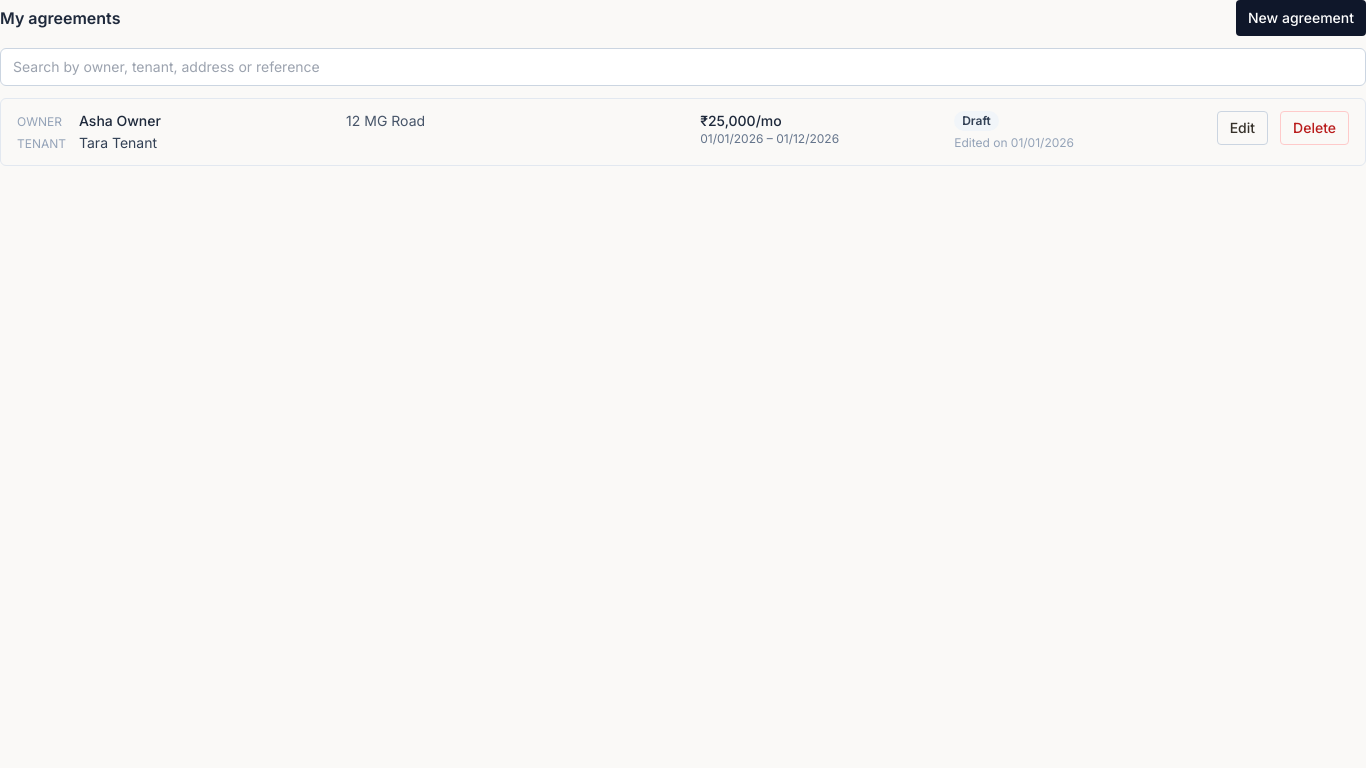
Test: MyAgreements › delete › deleting the last agreement shows the empty state
The width and height of the screenshot is (1366, 768).
What coordinates should you click on to do the following:
click the button with test id "delete-d1"
I would click on:
 (1315, 128)
Its box is [1280, 111, 1349, 145].
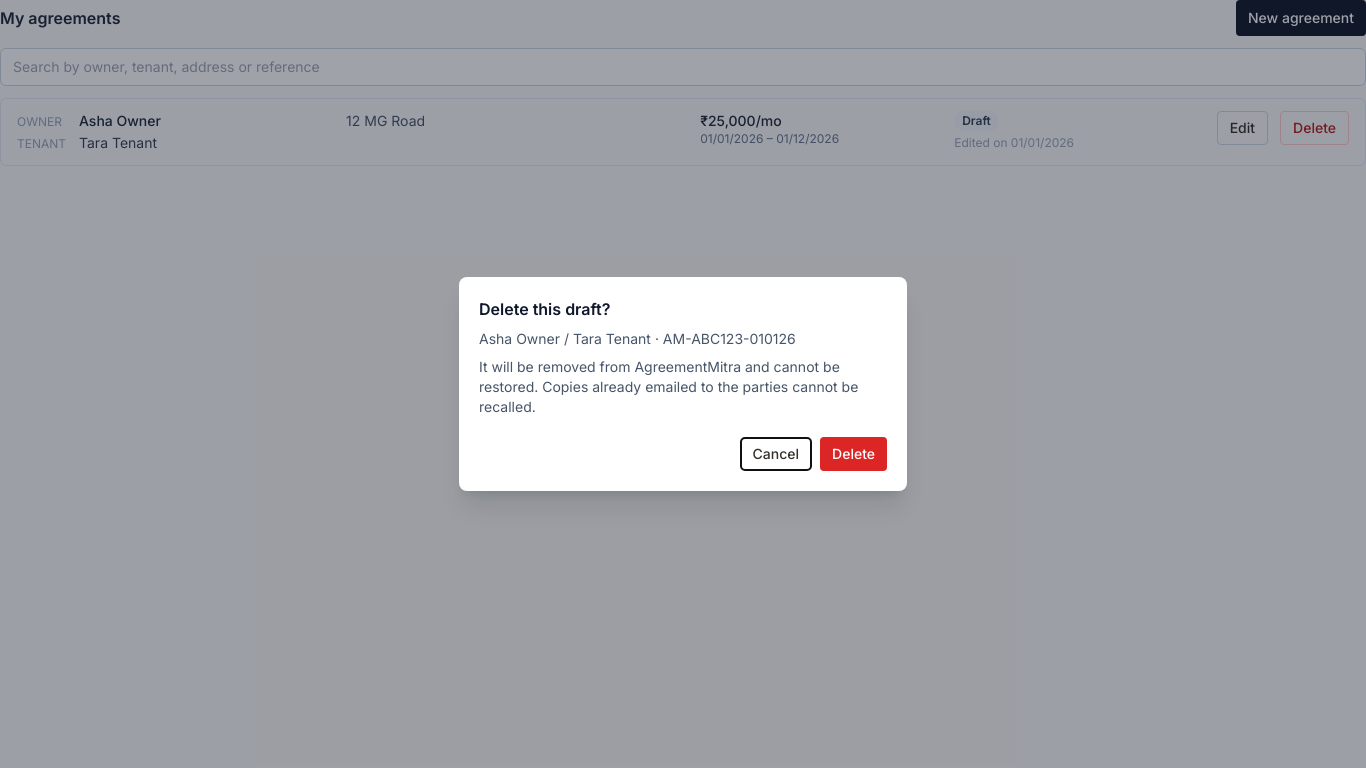
What coordinates should you click on to do the following:
click the button with test id "confirm-ok"
I would click on:
 (854, 454)
Its box is [820, 437, 887, 471].
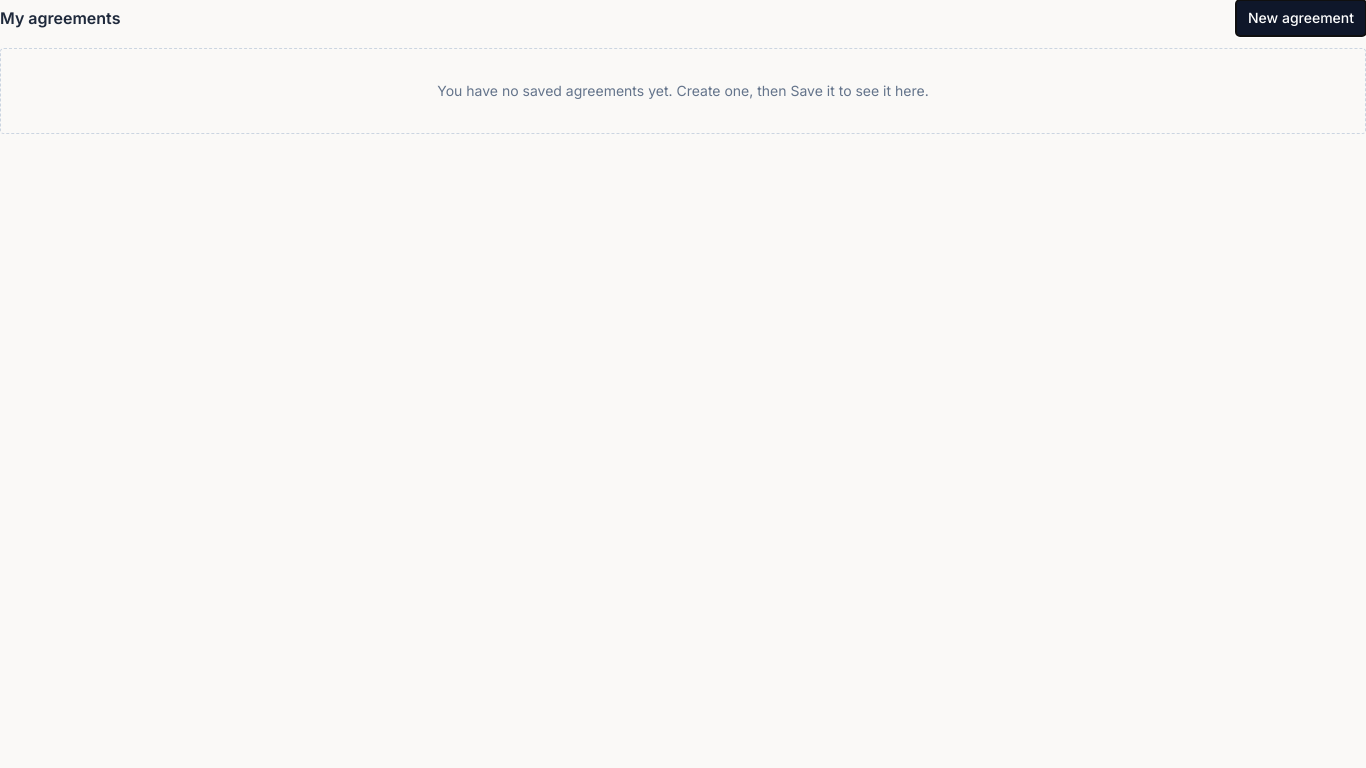
Now the text with test id "list-empty" is shown, box [0, 48, 1365, 134]
